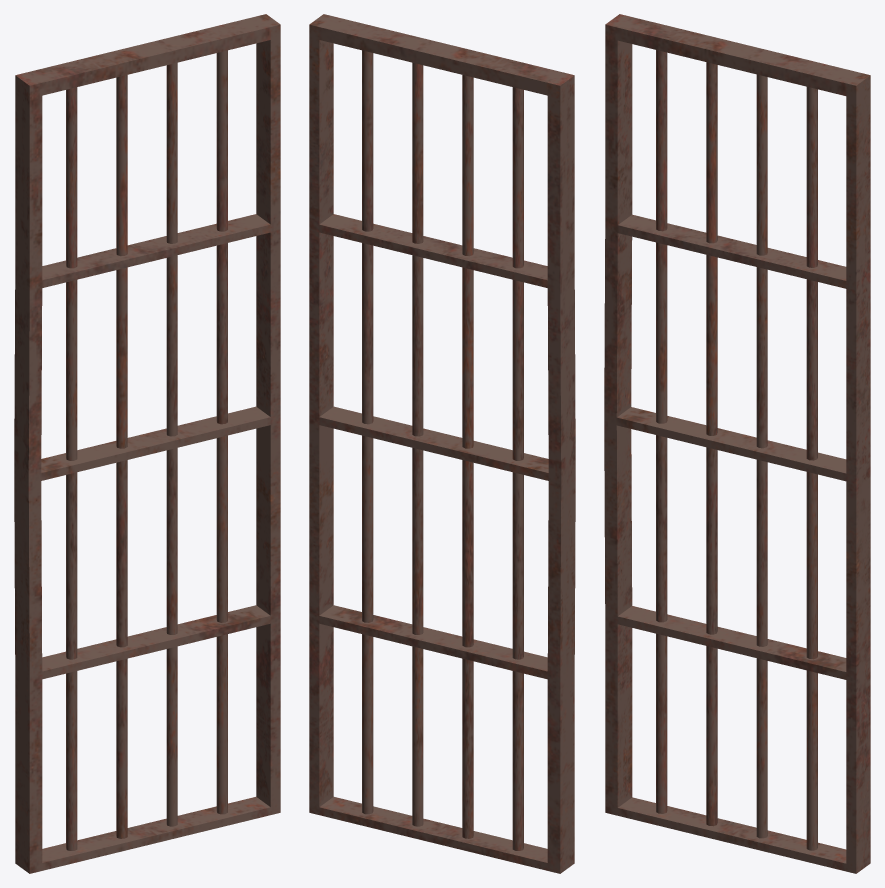
Rendered from sb_obj_indoor035_Prison01_cage01.fbx.
3 views of the same model, side by side, from view 1: azimuth 30°, elevation 25°; view 2: azimuth 150°, elevation 25°; view 3: azimuth 330°, elevation 25° (orthographic).
Visible parts, largest first — view 1: sb_obj_indoor035_Prison01_cage01; view 2: sb_obj_indoor035_Prison01_cage01; view 3: sb_obj_indoor035_Prison01_cage01.
Boxes of the visible parts, bbox=[...] form: sb_obj_indoor035_Prison01_cage01: bbox=[14, 14, 280, 873]; sb_obj_indoor035_Prison01_cage01: bbox=[309, 14, 575, 873]; sb_obj_indoor035_Prison01_cage01: bbox=[604, 14, 870, 873].
Size of the model in its own units: 1 by 3 by 0.1.
